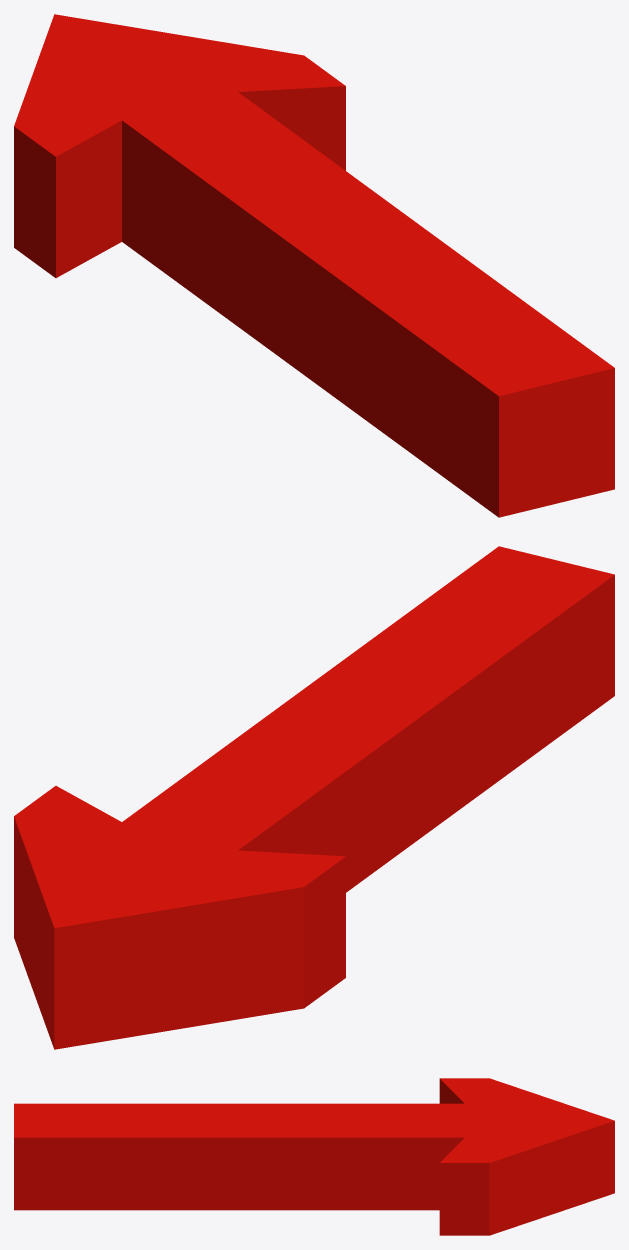
File: arrow.fbx
The picture shows the model from 3 angles, top to bottom: view 1: azimuth 30°, elevation 25°; view 2: azimuth 150°, elevation 25°; view 3: azimuth 270°, elevation 25°; orthographic projection. The views are drawn at different scales.
Parts seen in each view (by area): view 1: Cubo; view 2: Cubo; view 3: Cubo.
Boxes of the visible parts, <box> form: Cubo: <box>14,14,614,517</box>; Cubo: <box>14,546,614,1049</box>; Cubo: <box>14,1078,614,1235</box>.
Size of the model in its own units: 100 by 40 by 300.
